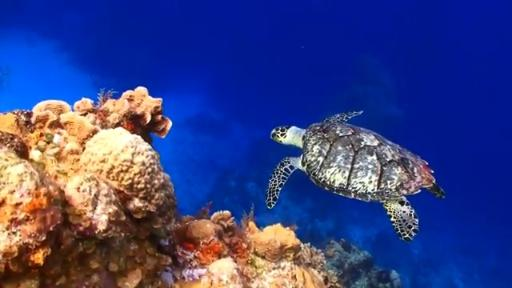Fish: (266, 111, 444, 240)
